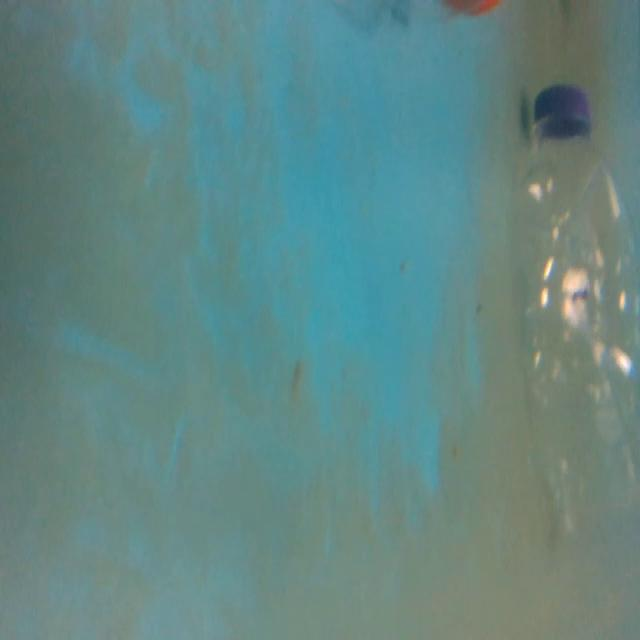plastic bottle: (526, 74, 640, 558)
